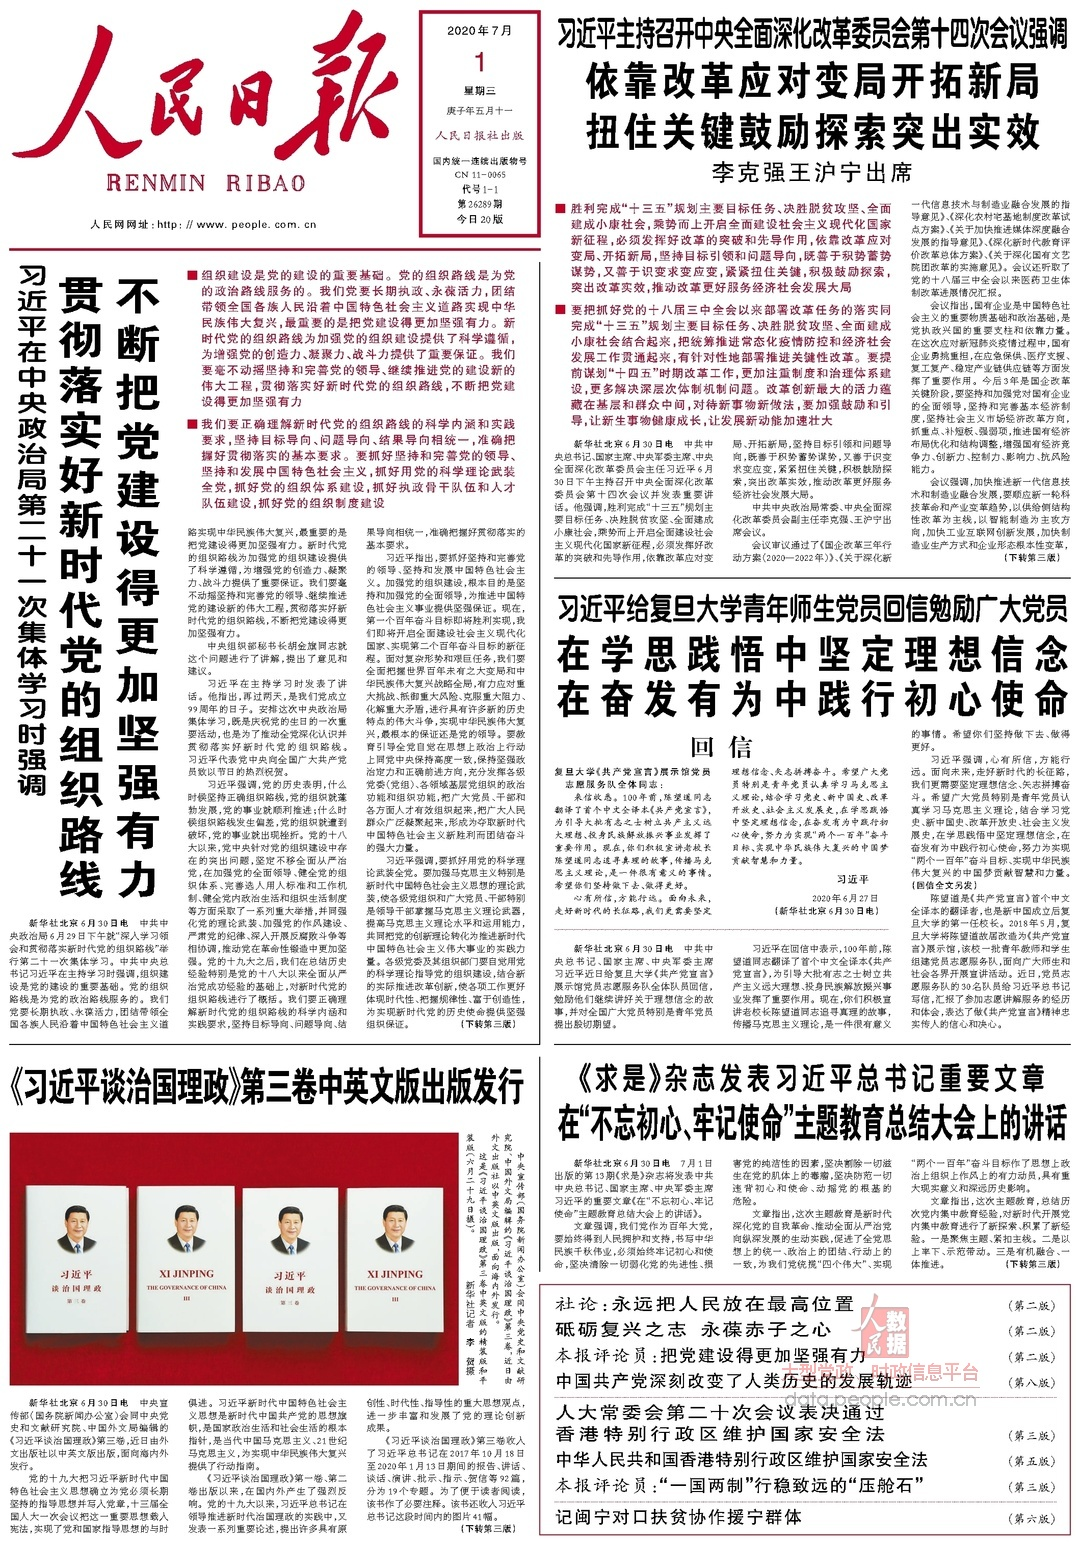pic: (5, 1130, 461, 1388)
